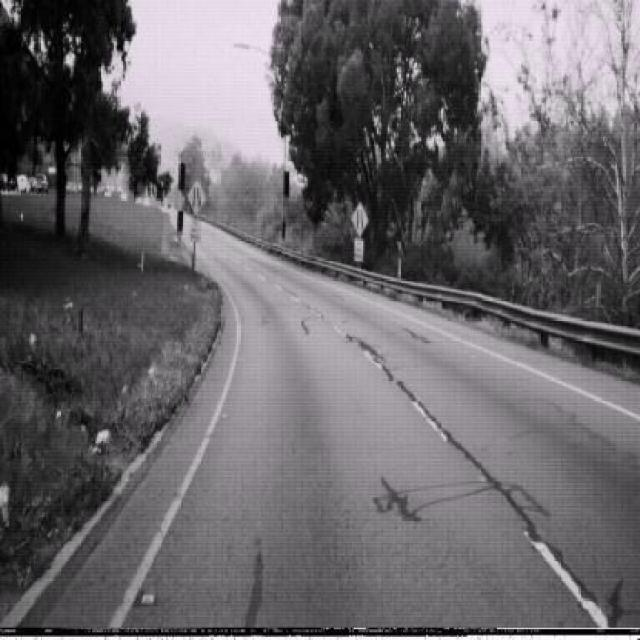laneEnds: (187, 178, 206, 218), (351, 200, 369, 237)
